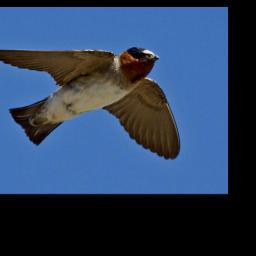Swallow: (0, 47, 183, 161)
